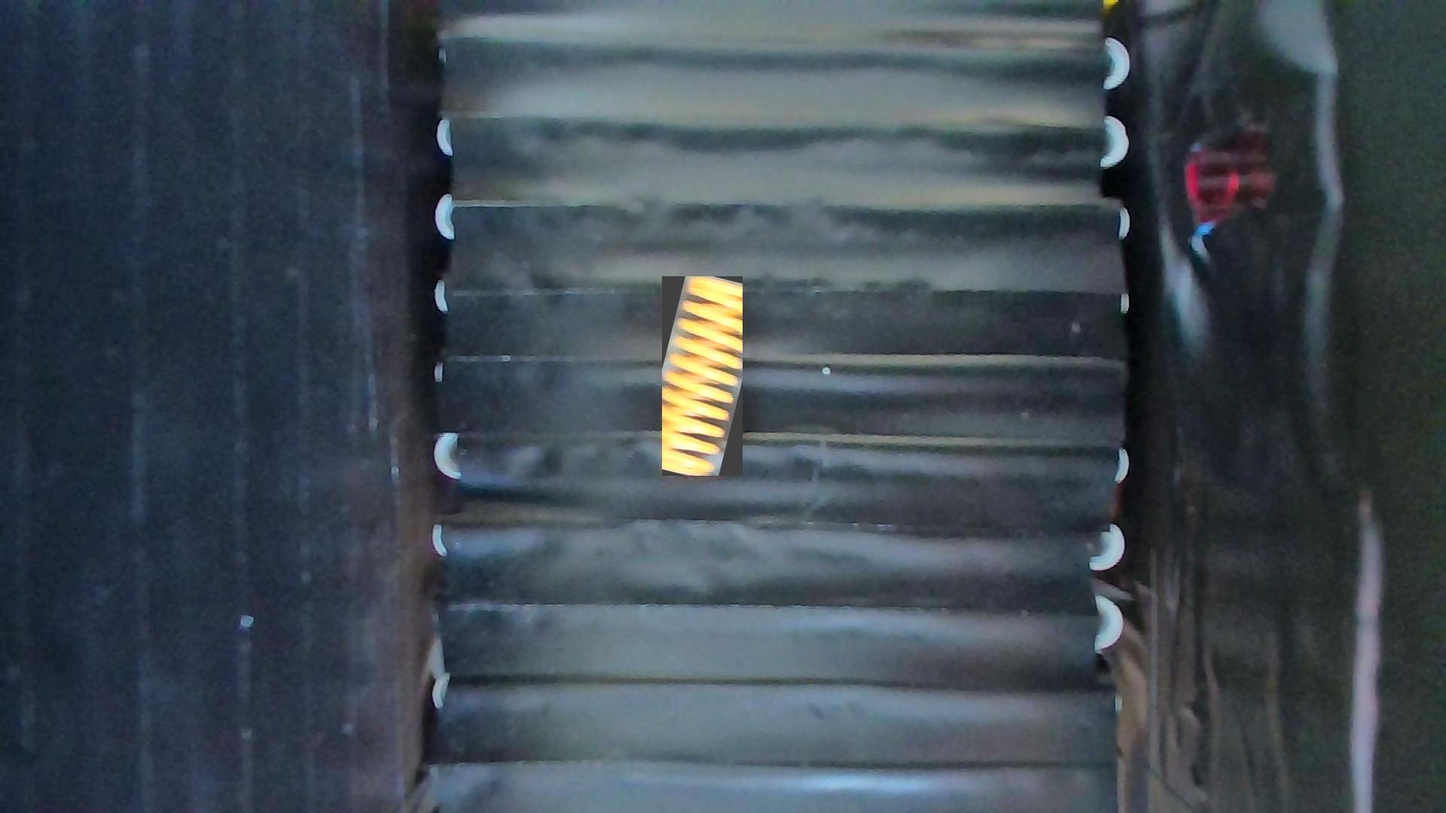spring: (662, 276, 743, 476)
